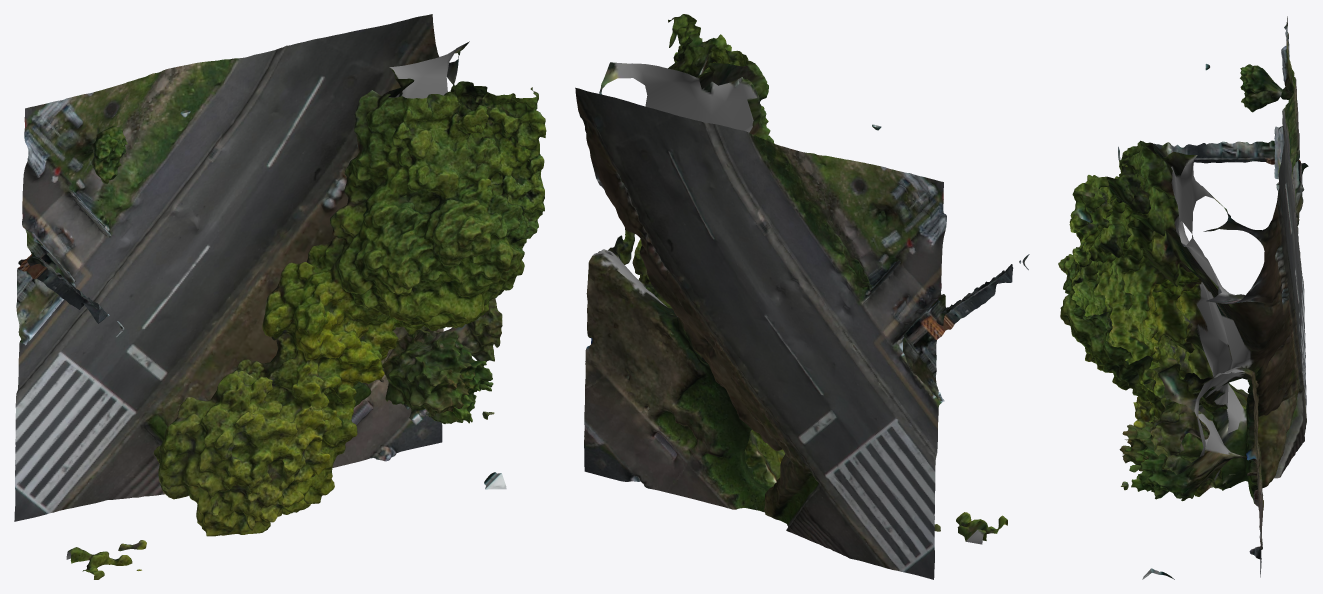
The model's file is Tile_+011_+011.fbx.
3 renders of one model, left to right at view 1: azimuth 30°, elevation 25°; view 2: azimuth 150°, elevation 25°; view 3: azimuth 270°, elevation 25°, orthographic. The views are drawn at different scales.
Parts seen in each view (by area): view 1: DefaultName; view 2: DefaultName; view 3: DefaultName.
Part boxes in pixels (bbox=[...]): DefaultName: bbox=[14, 14, 546, 579]; DefaultName: bbox=[575, 14, 1029, 579]; DefaultName: bbox=[1058, 16, 1308, 579].
Size of the model in its own units: 22.54 by 22.54 by 13.25.
